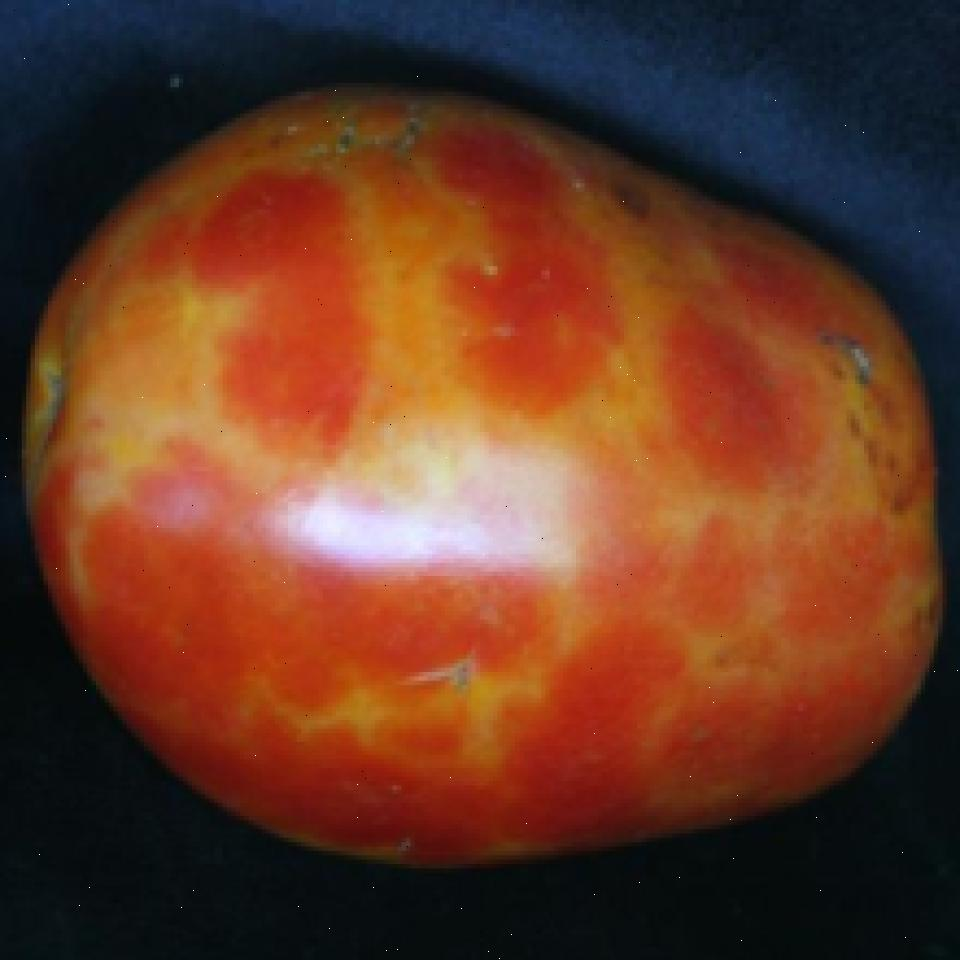Spotted wilt Virus: (19, 83, 939, 875)
